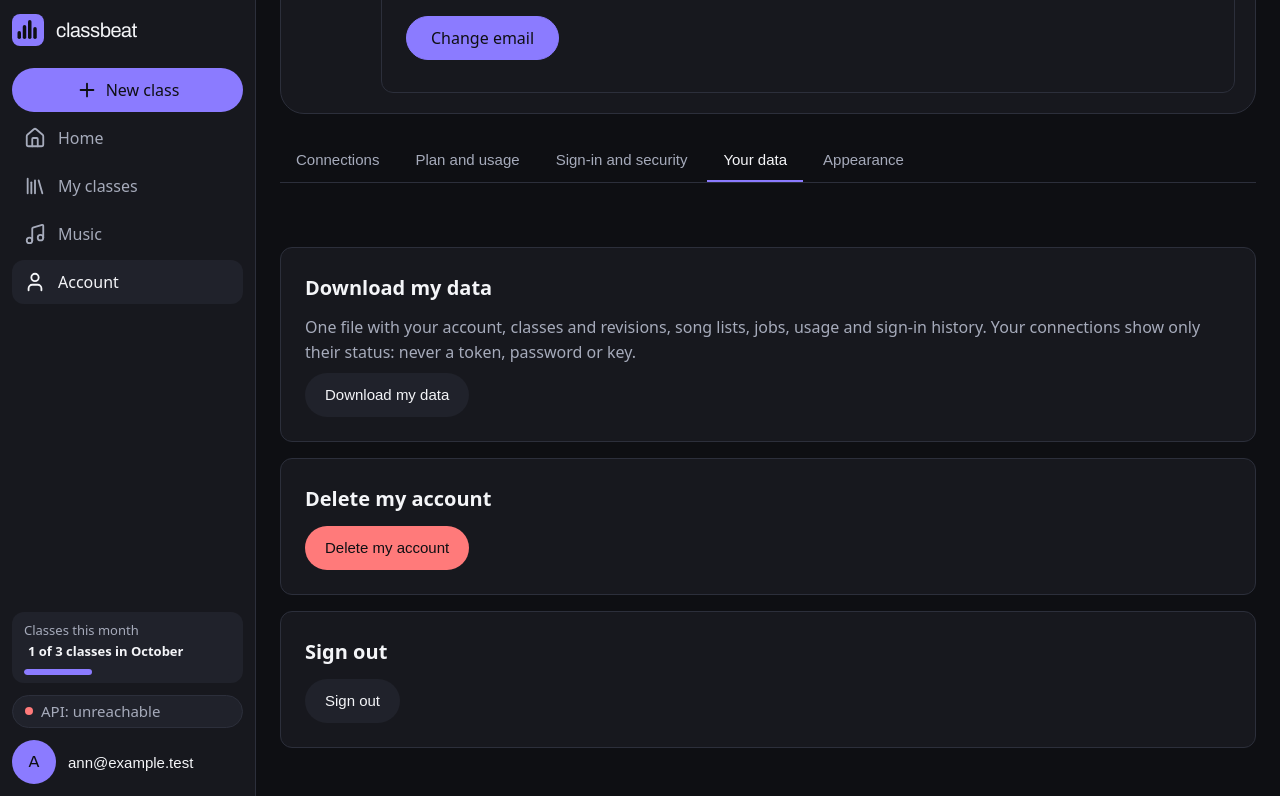
Test: delete my account, refused › shows the answer of the server when it does not accept the typed address
(page scrolled)
Click the button "Delete my account": (387, 548) [305, 526, 469, 570]
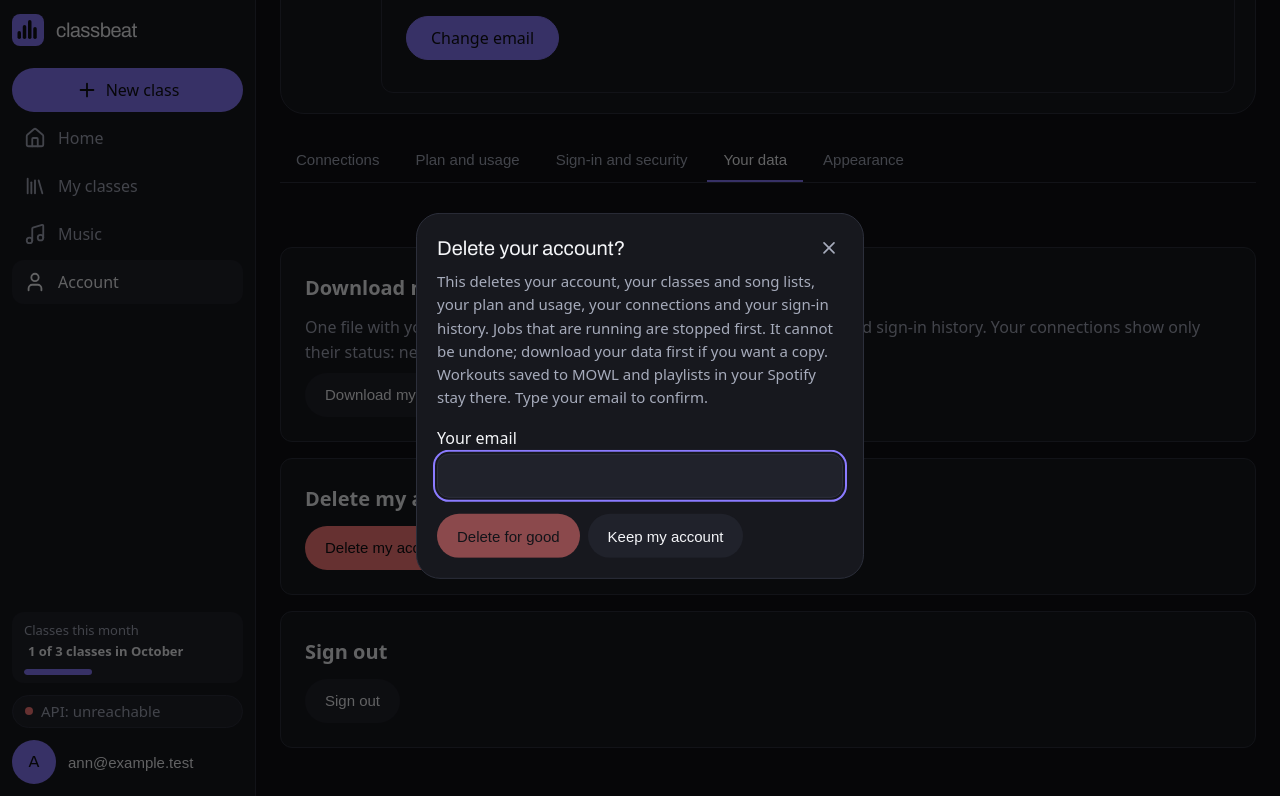
In the field labelled "Your email": (640, 476) [437, 454, 843, 498], type "ann@example.test"
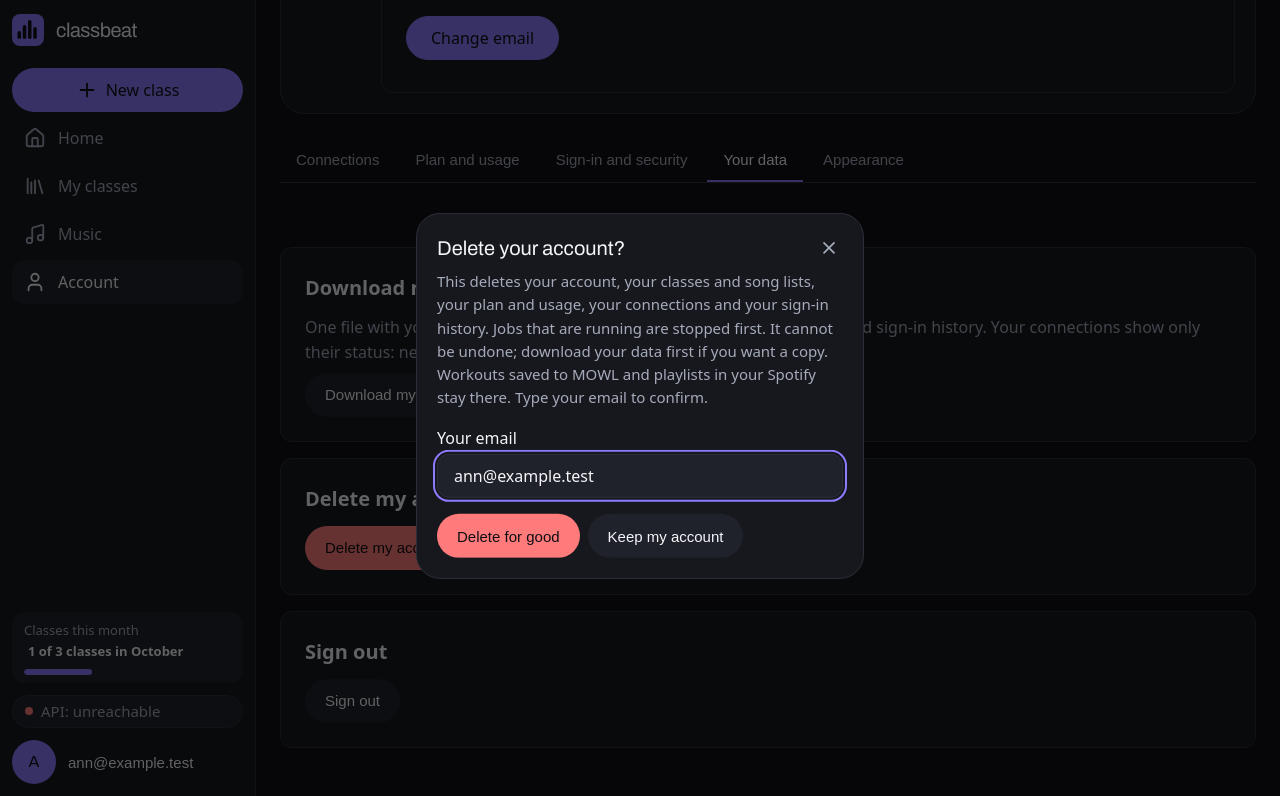
Click the button "Delete for good": (508, 536) [437, 514, 580, 558]
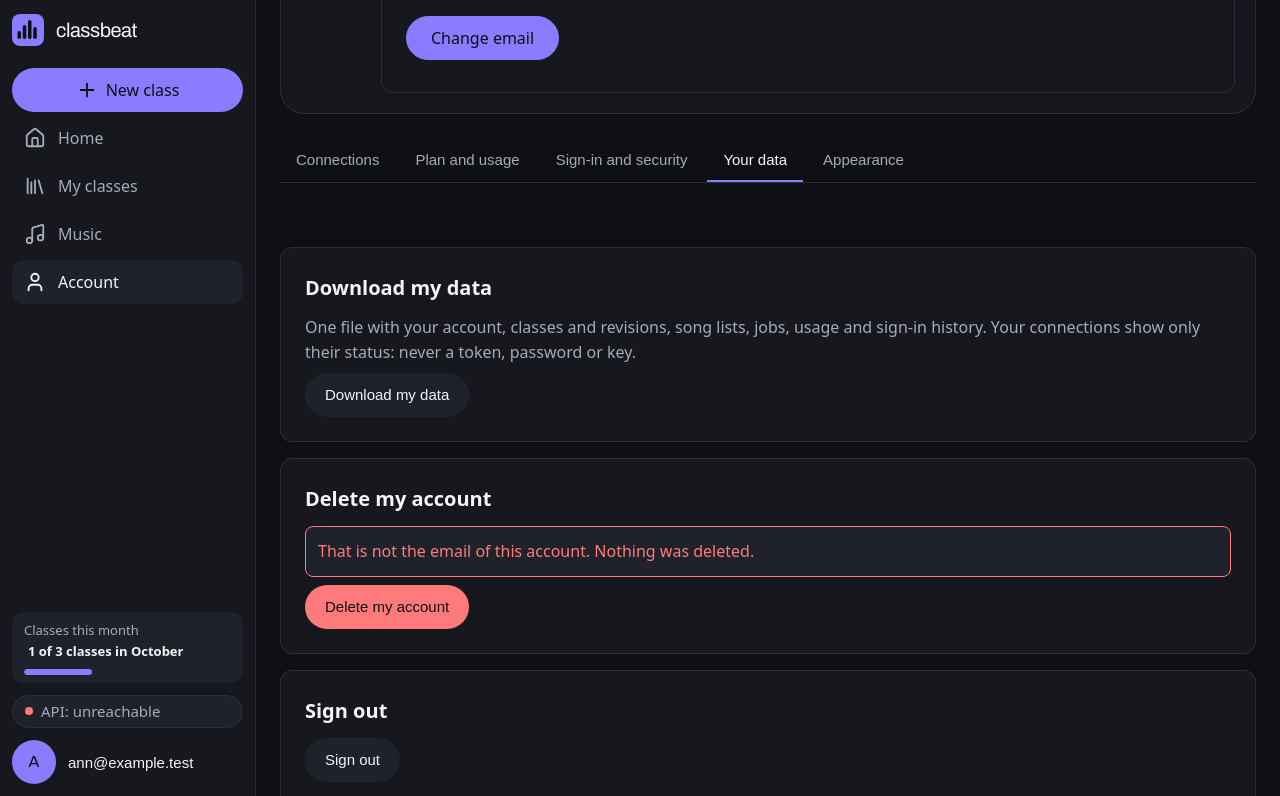
Expected: the message "That is not the email of this account. Nothing was deleted." is shown, [305, 526, 1231, 577]
